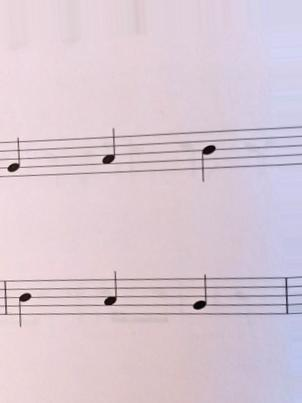note: (12, 275, 37, 334), (98, 267, 124, 321), (197, 127, 219, 188), (95, 125, 121, 175), (189, 269, 212, 324), (5, 137, 25, 185)
